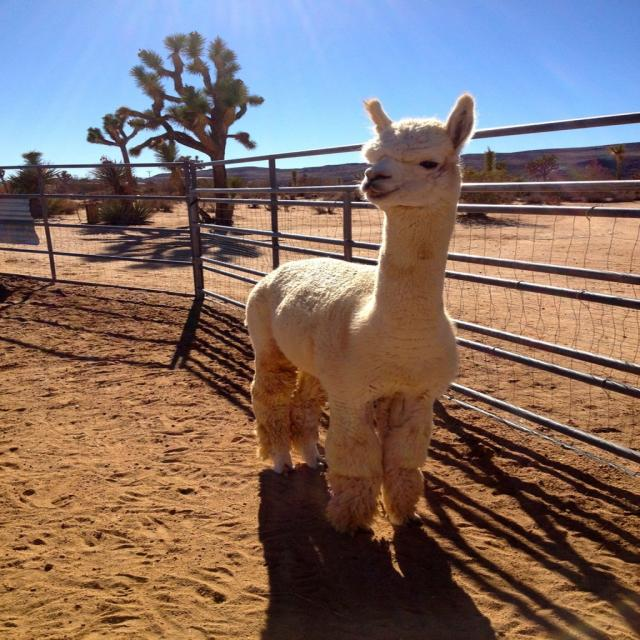alpaca: (248, 92, 475, 537)
